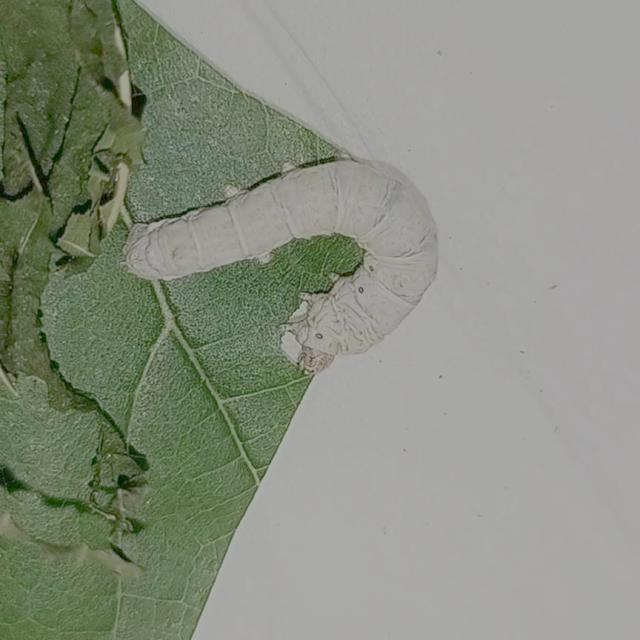Healthy: (108, 146, 450, 384)
